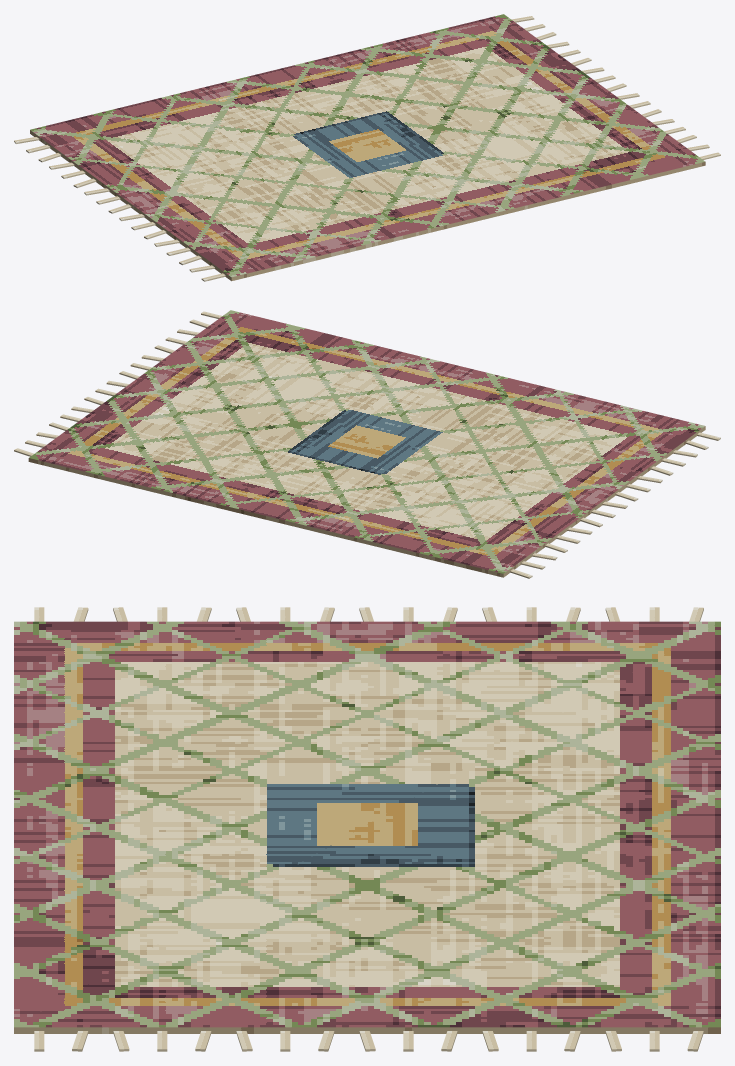
The model's file is rug.glb.
3 renders of one model, top to bottom at view 1: azimuth 30°, elevation 25°; view 2: azimuth 150°, elevation 25°; view 3: azimuth 270°, elevation 25°, orthographic. The views are drawn at different scales.
Parts seen in each view (by area): view 1: rug; view 2: rug; view 3: rug.
Boxes of the visible parts, <box> form: rug: <box>30,14,705,281</box>; rug: <box>28,310,705,577</box>; rug: <box>14,621,720,1033</box>.
Size of the model in its own units: 4.14 by 0.03 by 2.8.
1 material, 1 textured.
